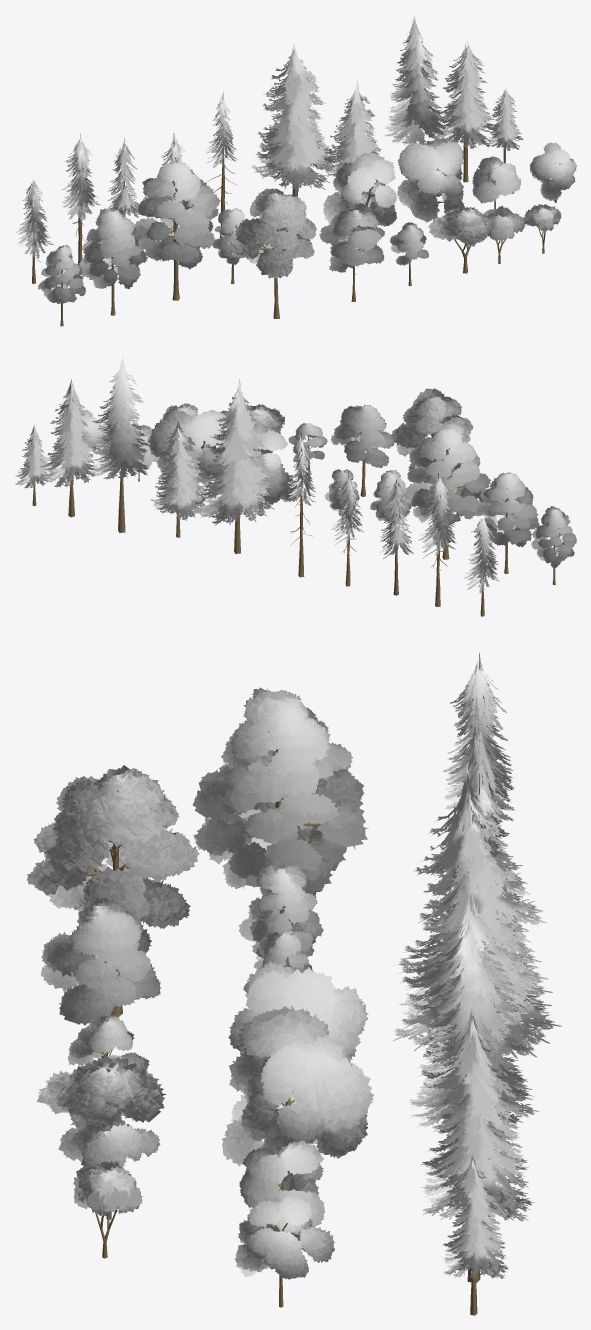
Rendered from Large Trees Test A.fbx.
The picture shows the model from 3 angles, top to bottom: view 1: azimuth 30°, elevation 25°; view 2: azimuth 150°, elevation 25°; view 3: azimuth 270°, elevation 25°; orthographic projection. The views are drawn at different scales.
Parts seen in each view (by area): view 1: Plane.041, leaf.057, leaf.056, Leaves_4.001, Plane.036, leaf.776, Leaves_3.001, Plane.037, leaf.054, Plane.042, leaf.058, Leaves_2.001 (+11 smaller); view 2: Plane.041, leaf.057, Plane.036, leaf.776, Plane.037, Plane.042, Leaves_4.001, leaf.056, leaf.054, leaf.058, Leaves_3.001, Plane.043 (+12 smaller); view 3: leaf.057, Plane.041, leaf.056, Leaves_4.001, Plane.037, Plane.036, leaf.054, Leaves_3.001, leaf.055, Leaves_2.001, Plane.045, leaf.792 (+8 smaller).
Boxes of the visible parts, x1,y1,x2,y2 form: Plane.041: [251, 42, 337, 191]; leaf.057: [133, 160, 220, 269]; leaf.056: [227, 188, 316, 278]; Leaves_4.001: [396, 137, 464, 222]; Plane.036: [384, 15, 451, 145]; leaf.776: [79, 208, 147, 289]; Leaves_3.001: [323, 152, 396, 232]; Plane.037: [436, 40, 496, 149]; leaf.054: [319, 203, 384, 272]; Plane.042: [325, 80, 382, 176]; leaf.058: [38, 244, 85, 304]; Leaves_2.001: [529, 142, 576, 200]; Plane.041: [193, 378, 278, 525]; leaf.057: [402, 421, 490, 525]; Plane.036: [89, 356, 149, 479]; leaf.776: [475, 472, 539, 547]; Plane.037: [38, 379, 96, 487]; Plane.042: [151, 418, 206, 520]; Leaves_4.001: [147, 410, 230, 483]; leaf.056: [391, 388, 473, 470]; leaf.054: [331, 405, 394, 467]; leaf.058: [531, 506, 576, 568]; Leaves_3.001: [249, 422, 297, 504]; Plane.043: [418, 477, 456, 555]; leaf.057: [192, 687, 368, 897]; Plane.041: [393, 763, 561, 1058]; leaf.056: [26, 765, 199, 928]; Leaves_4.001: [221, 1005, 374, 1166]; Plane.037: [420, 1008, 534, 1221]; Plane.036: [407, 888, 538, 1149]; leaf.054: [40, 897, 160, 1025]; Leaves_3.001: [228, 961, 368, 1065]; leaf.055: [37, 1056, 166, 1128]; Leaves_2.001: [234, 1195, 334, 1279]; Plane.045: [442, 1153, 509, 1278]; leaf.792: [238, 864, 323, 966].
Size of the model in its own units: 10657 by 3609 by 4852.
